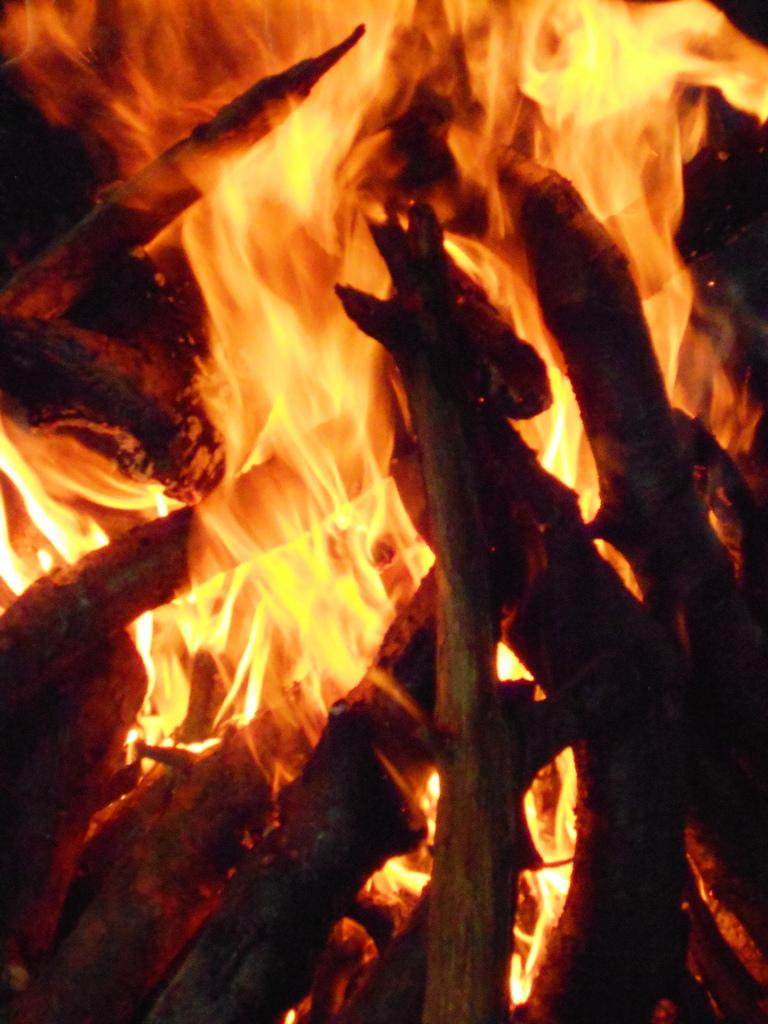fire: (195, 145, 410, 690), (525, 0, 715, 258), (105, 15, 518, 128)
